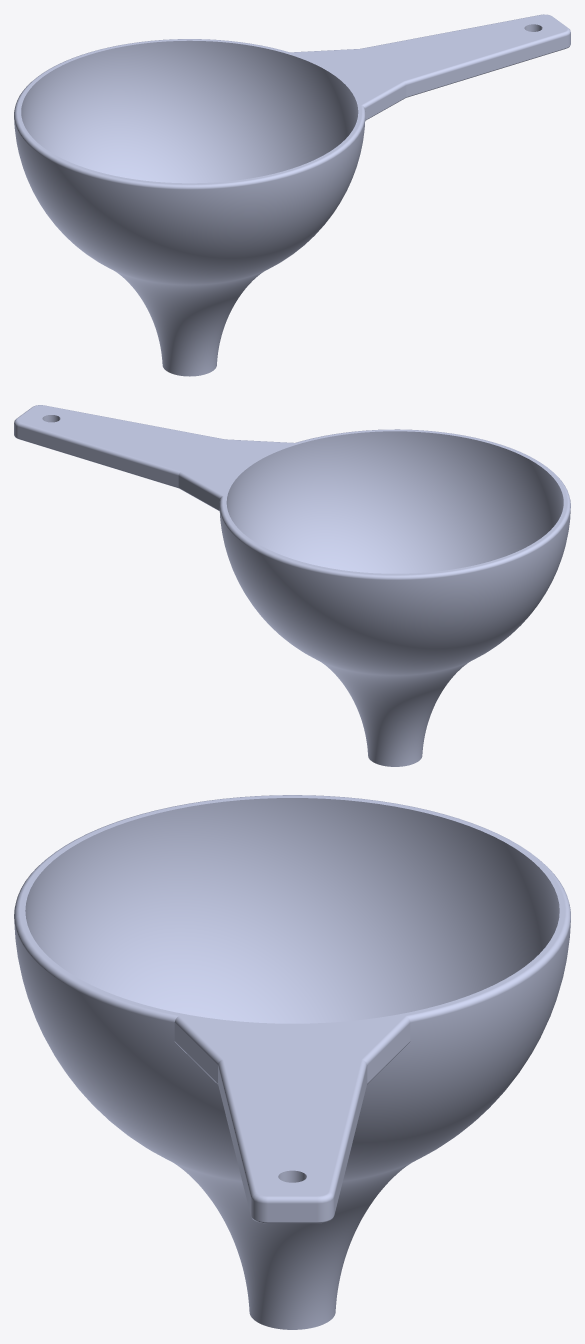
Rendered from embudo.fbx.
The picture shows the model from 3 angles, top to bottom: view 1: azimuth 30°, elevation 25°; view 2: azimuth 150°, elevation 25°; view 3: azimuth 270°, elevation 25°; orthographic projection. The views are drawn at different scales.
Visible parts, largest first — view 1: Embudo; view 2: Embudo; view 3: Embudo.
Part boxes in pixels (box(x1,y1,x2,y2)): Embudo: box(14, 14, 570, 376); Embudo: box(14, 405, 570, 766); Embudo: box(14, 795, 570, 1329).
Bounding box in the file's own units: 16.7 × 7.7 × 9.7.
